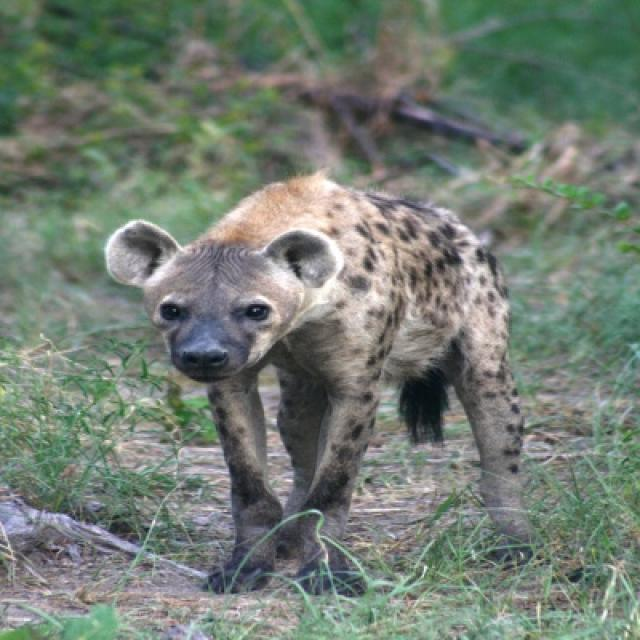hyena: (104, 174, 533, 594)
